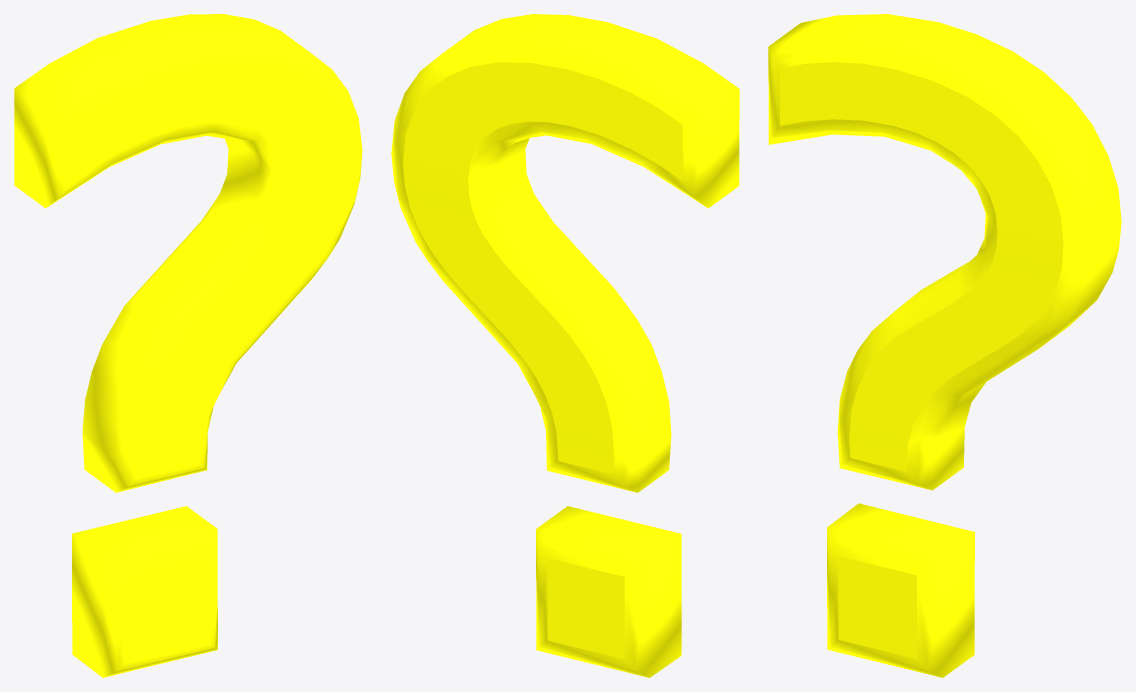
3 views of the same model, side by side, from view 1: azimuth 30°, elevation 25°; view 2: azimuth 150°, elevation 25°; view 3: azimuth 330°, elevation 25° (orthographic).
Visible parts, largest first — view 1: IndicatorQuestionMarkYellow; view 2: IndicatorQuestionMarkYellow; view 3: IndicatorQuestionMarkYellow.
Part boxes in pixels (x1=…): IndicatorQuestionMarkYellow: x1=14, y1=14, x2=362, y2=677; IndicatorQuestionMarkYellow: x1=391, y1=14, x2=739, y2=677; IndicatorQuestionMarkYellow: x1=768, y1=14, x2=1121, y2=677.
Bounding box in the file's own units: 0.2591 × 0.4808 × 0.0645.
Materials: 1 (1 with a texture image).
